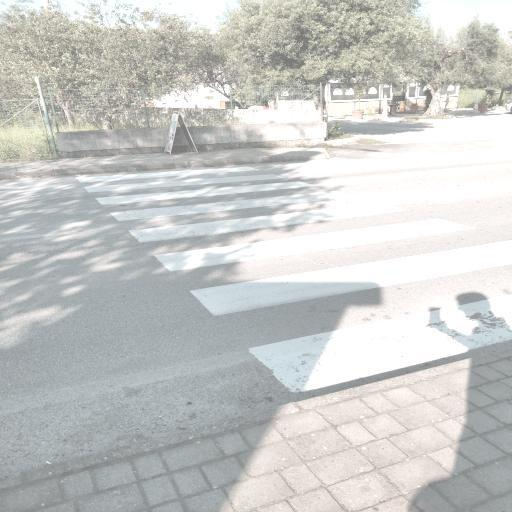crosswalk: (123, 200, 477, 276)
